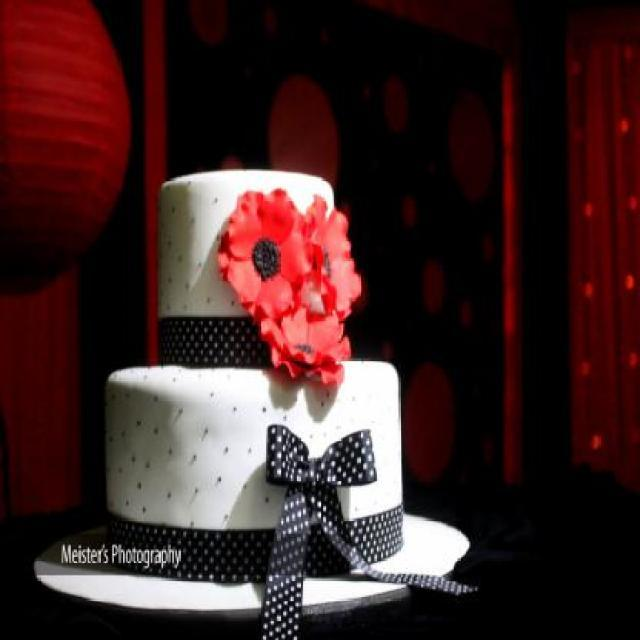Cake: (104, 166, 402, 580)
